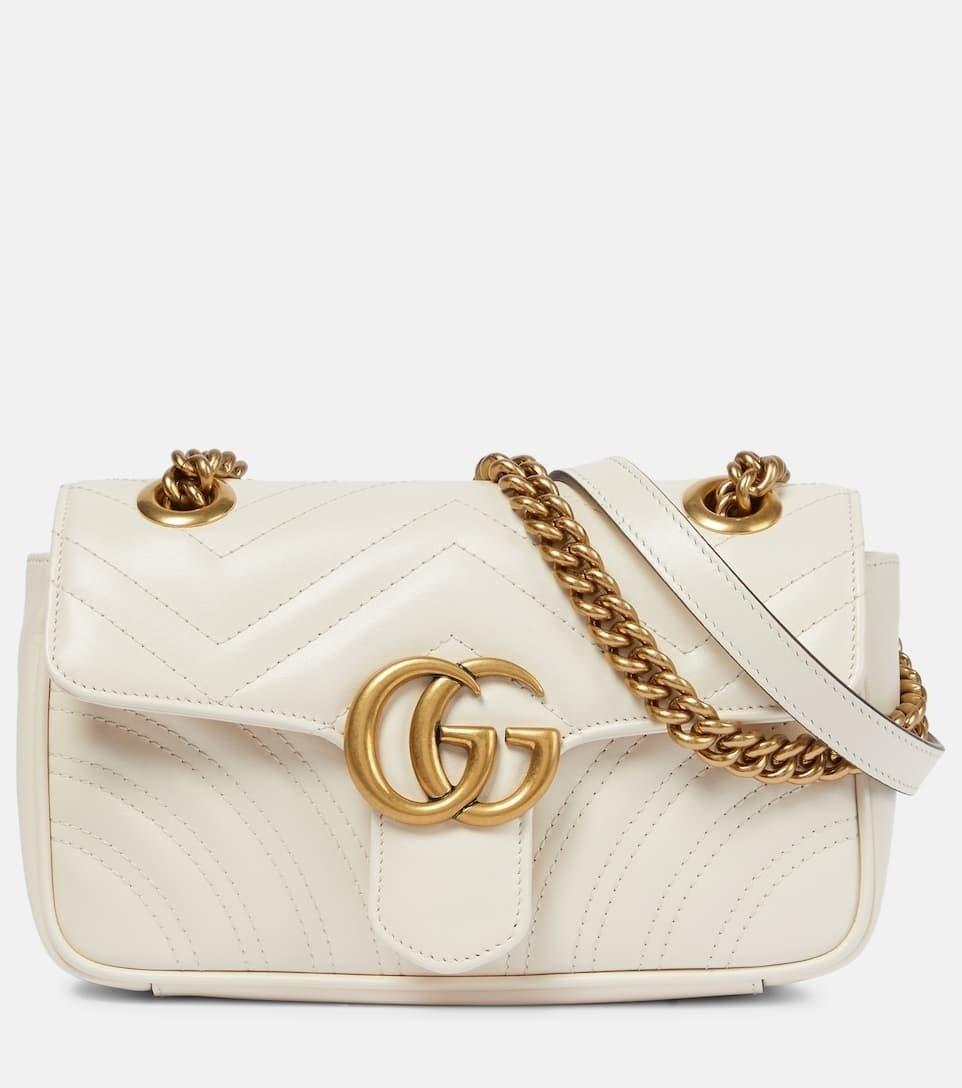GUCCI: (343, 656, 562, 829)
